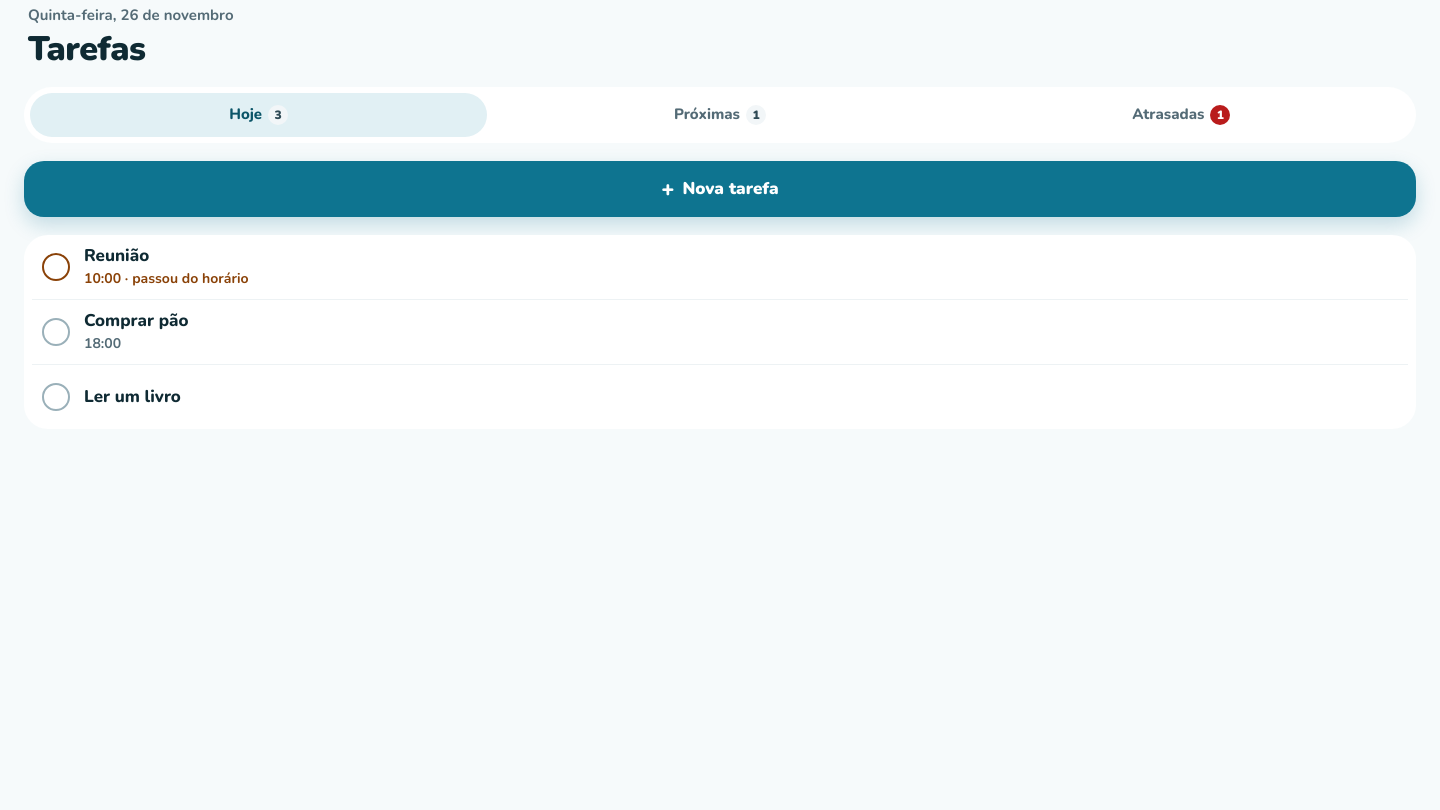
TasksPage › título vazio não é enviado
Click the button "+ Nova tarefa". click: (720,188)
box: [24, 160, 1416, 216]
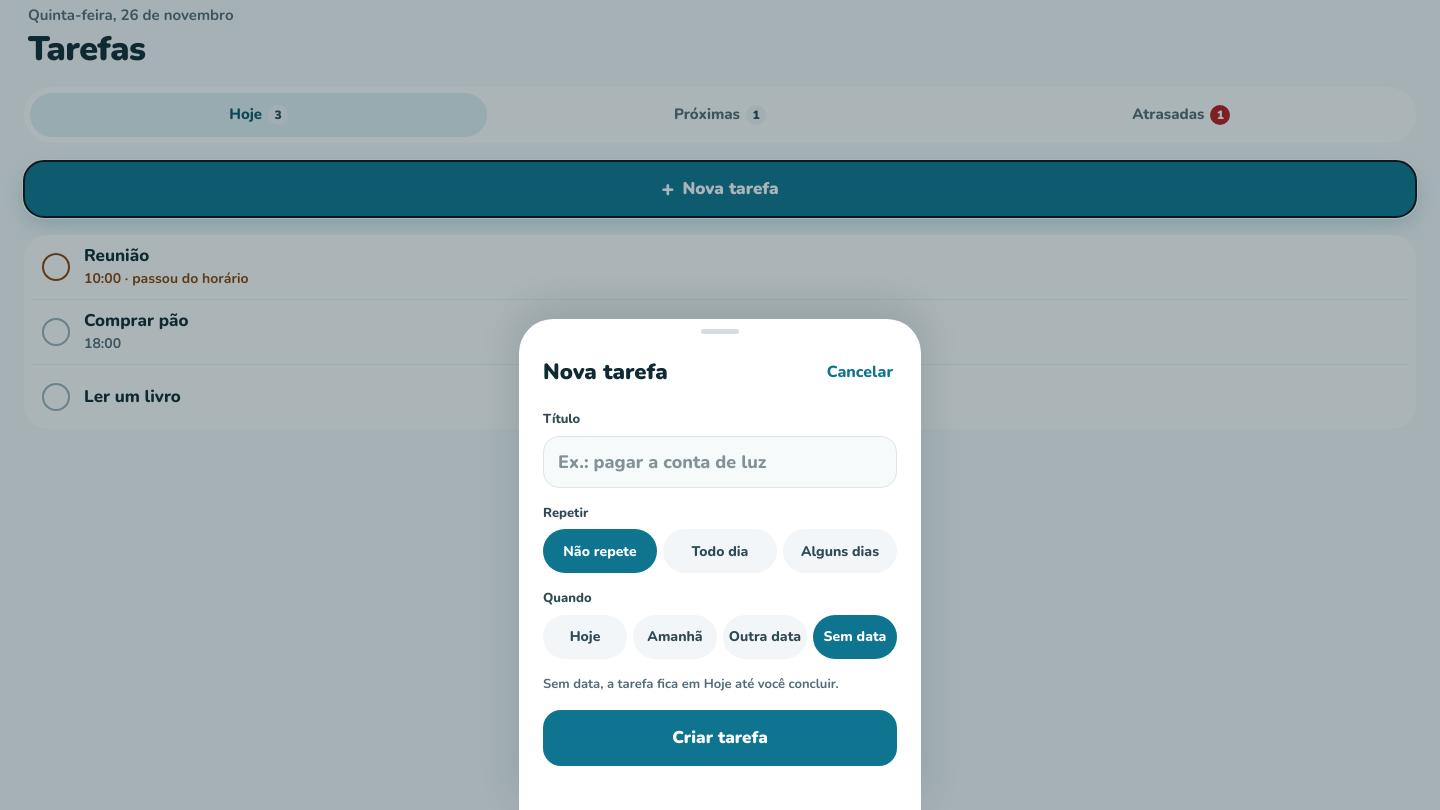
Click the button "Criar tarefa". click: (720,738)
box: [543, 710, 897, 766]
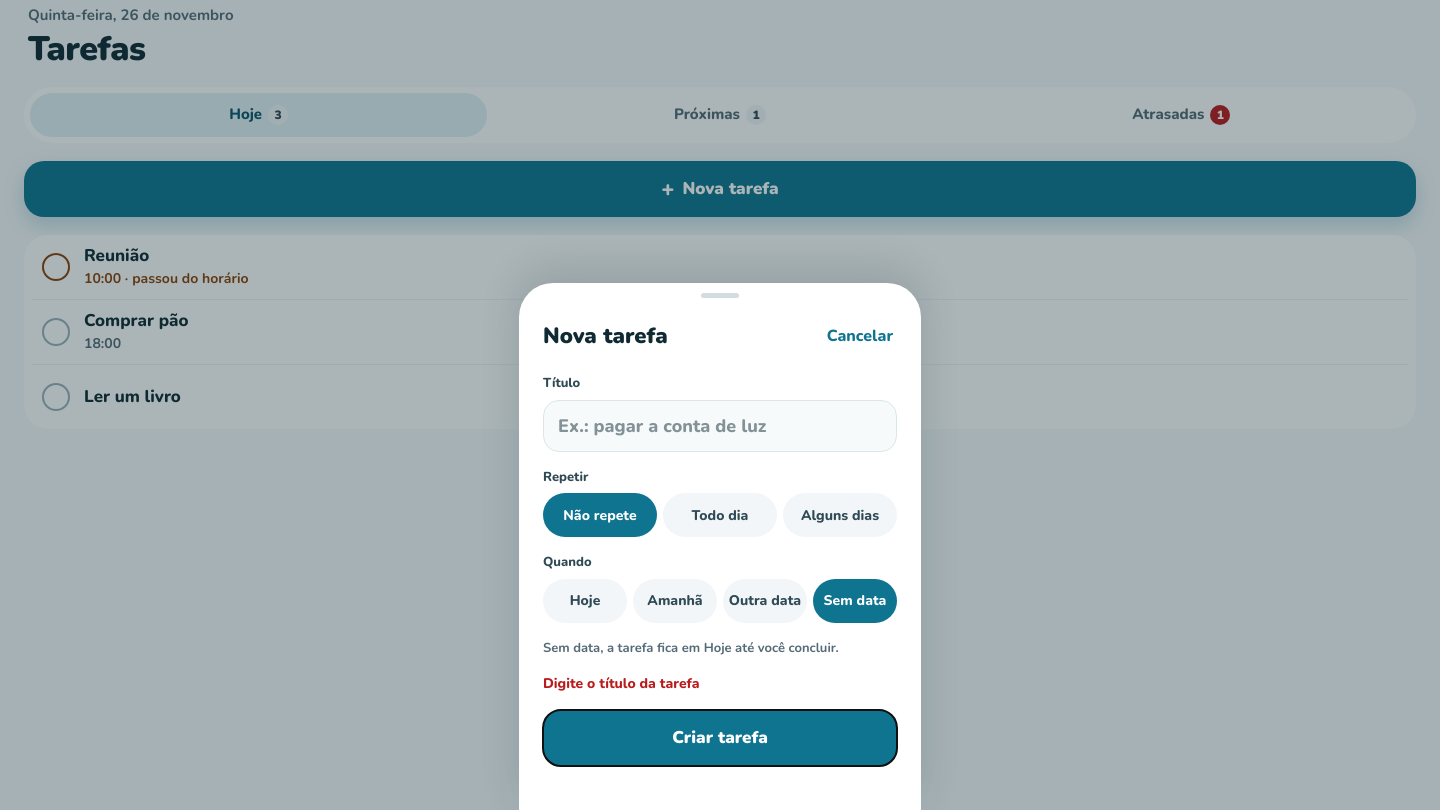
Expected: the message reads "Digite o título da tarefa", [543, 674, 700, 693]
